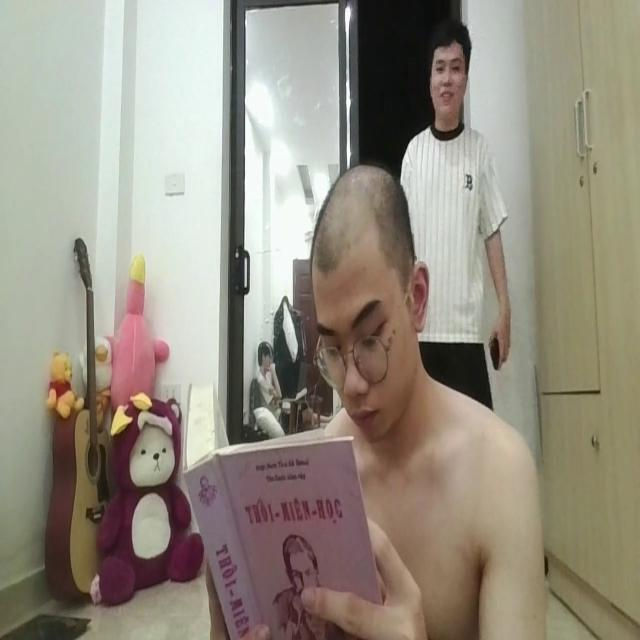book: (180, 370, 388, 640)
extra_person: (390, 0, 522, 429), (254, 324, 286, 432)
student: (298, 155, 547, 640)
